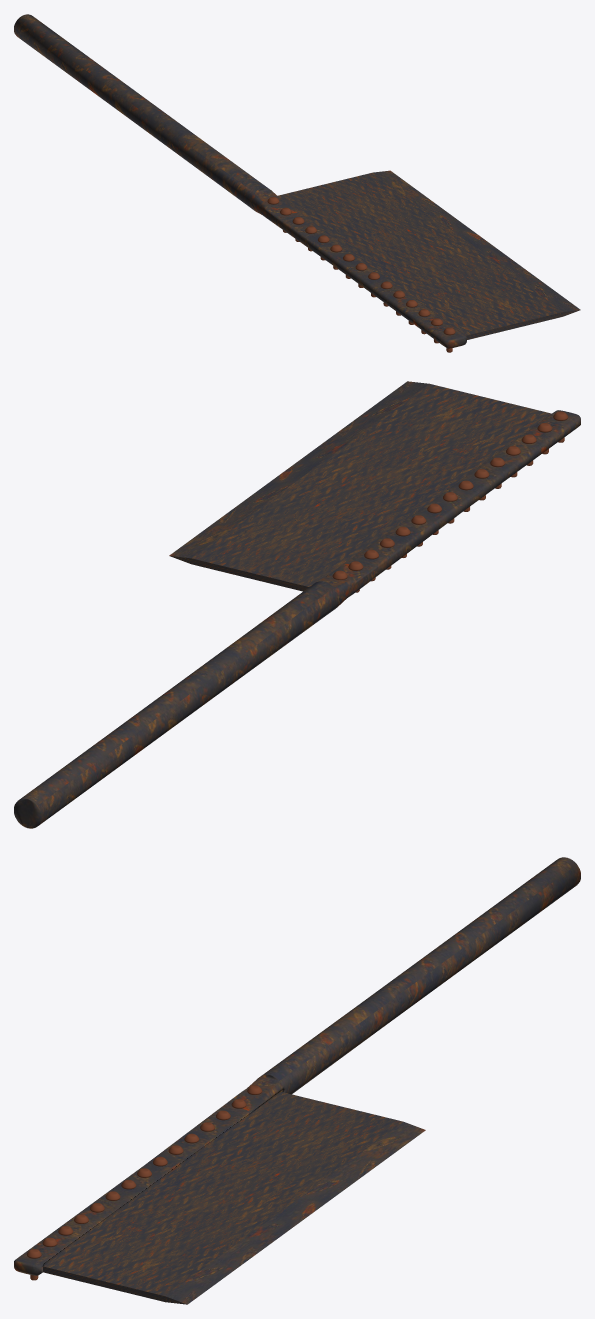
File: cleaver.fbx
3 views of the same model, one above another, from view 1: azimuth 30°, elevation 25°; view 2: azimuth 150°, elevation 25°; view 3: azimuth 330°, elevation 25° (orthographic). The views are drawn at different scales.
Visible parts, largest first — view 1: cleaver; view 2: cleaver; view 3: cleaver.
Boxes of the visible parts, x1,y1,x2,y2 form: cleaver: (14,14,580,352); cleaver: (14,381,580,828); cleaver: (14,857,580,1304).
Size of the model in its own units: 29.23 by 5.19 by 159.
